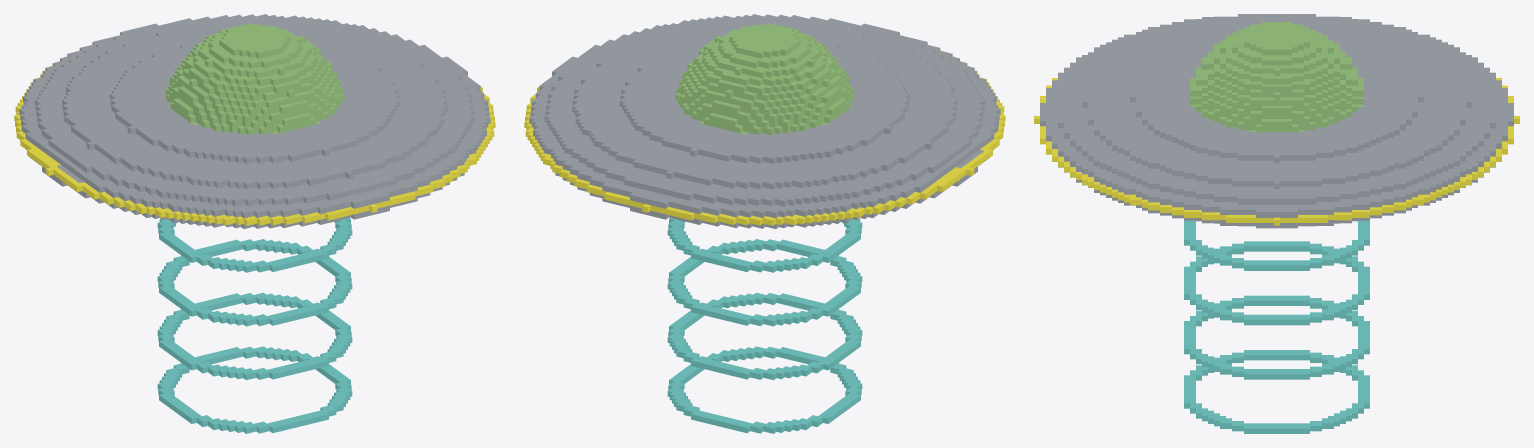
The picture shows the model from 3 angles, left to right: view 1: azimuth 30°, elevation 25°; view 2: azimuth 150°, elevation 25°; view 3: azimuth 270°, elevation 25°; orthographic projection.
Visible parts, largest first — view 1: Object; view 2: Object; view 3: Object.
Boxes of the visible parts, x1,y1,x2,y2 form: Object: [14, 14, 495, 433]; Object: [524, 14, 1005, 433]; Object: [1034, 14, 1519, 433].
Bounding box in the file's own units: 81 × 66 × 81.
Materials: 1 (1 with a texture image).
